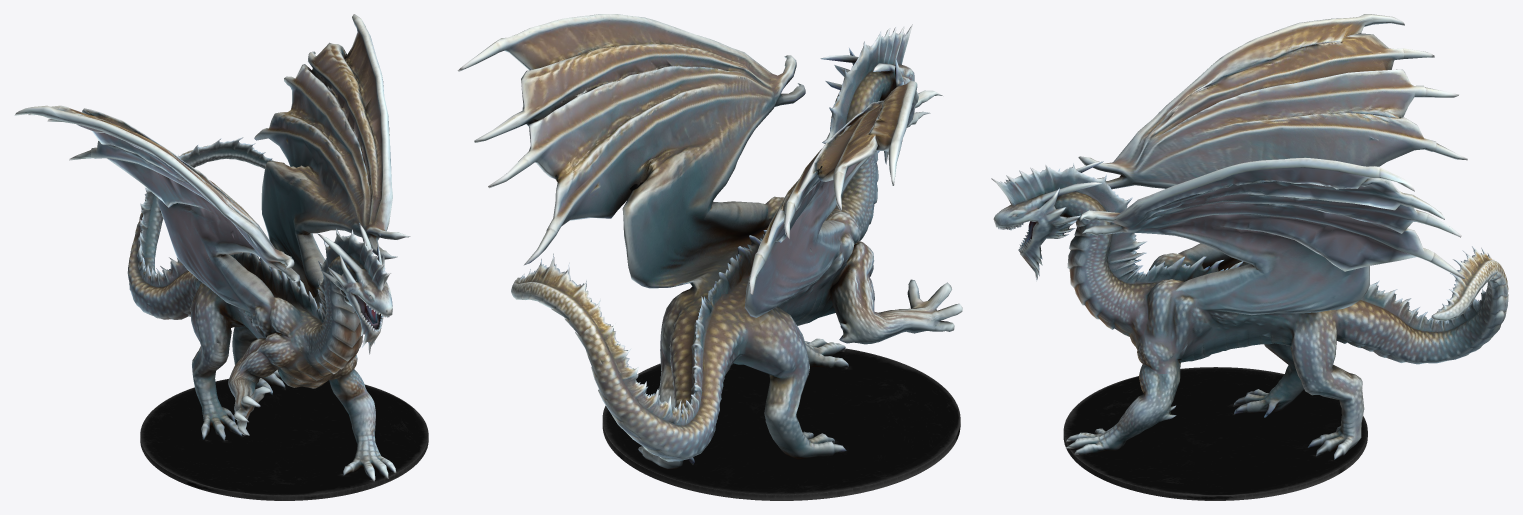
The model's file is MZ4250 - Dragon Silver.glb.
The picture shows the model from 3 angles, left to right: view 1: azimuth 30°, elevation 25°; view 2: azimuth 150°, elevation 25°; view 3: azimuth 270°, elevation 25°; orthographic projection. The views are drawn at different scales.
Visible parts, largest first — view 1: model_low.001, base_low.001; view 2: model_low.001, base_low.001; view 3: model_low.001, base_low.001.
Boxes of the visible parts, x1,y1,x2,y2 form: model_low.001: [14, 14, 410, 481]; base_low.001: [140, 378, 428, 500]; model_low.001: [457, 14, 962, 469]; base_low.001: [602, 348, 960, 500]; model_low.001: [991, 14, 1508, 459]; base_low.001: [1063, 367, 1367, 500].
Bounding box in the file's own units: 1.35 × 1.23 × 1.65.
1 material, 1 textured.
